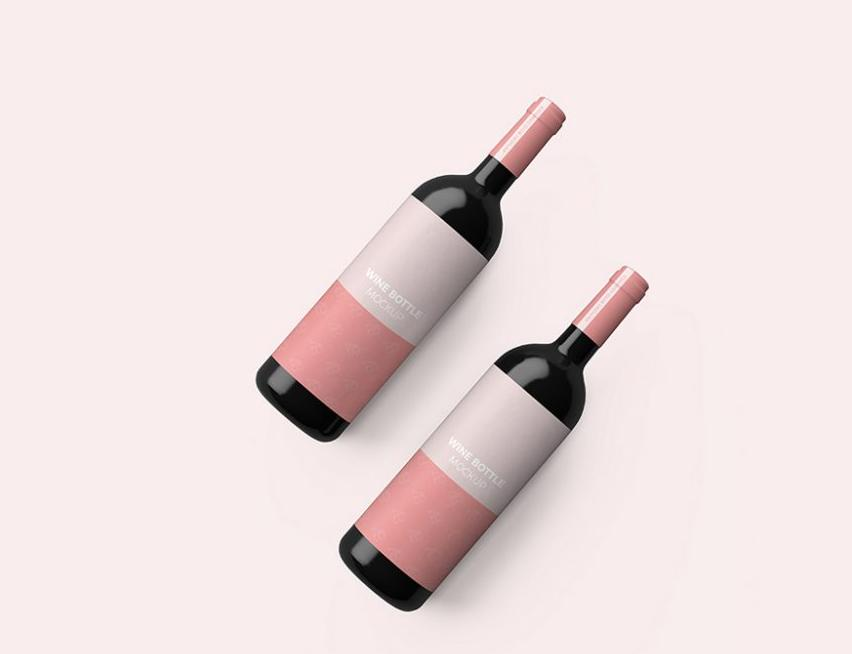wine bottle: (340, 263, 650, 614), (256, 95, 567, 443)
wine label: (352, 365, 572, 596), (269, 195, 490, 424)
